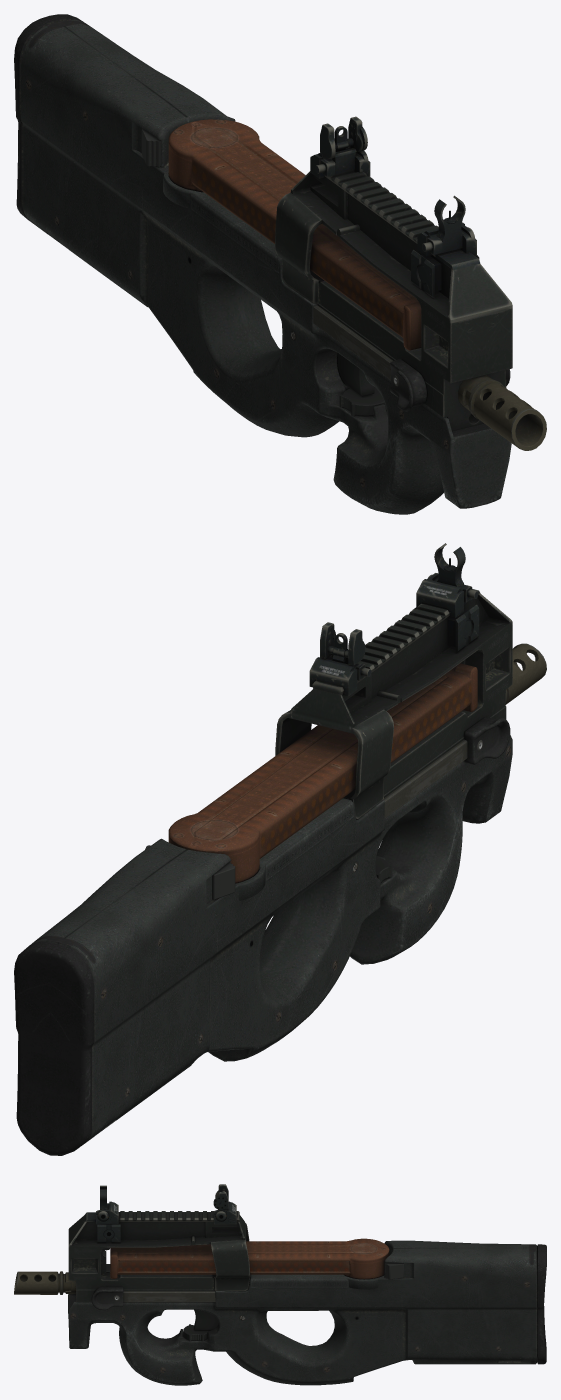
3 renders of one model, top to bottom at view 1: azimuth 30°, elevation 25°; view 2: azimuth 150°, elevation 25°; view 3: azimuth 270°, elevation 25°, orthographic. The views are drawn at different scales.
Parts seen in each view (by area): view 1: p90; view 2: p90; view 3: p90.
Part boxes in pixels (x1,y1,x2,y2): p90: [14, 14, 546, 514]; p90: [14, 543, 546, 1155]; p90: [14, 1184, 546, 1385].
Bounding box in the file's own units: 2.35 × 7.99 × 19.64.
Materials: 1 (1 with a texture image).
